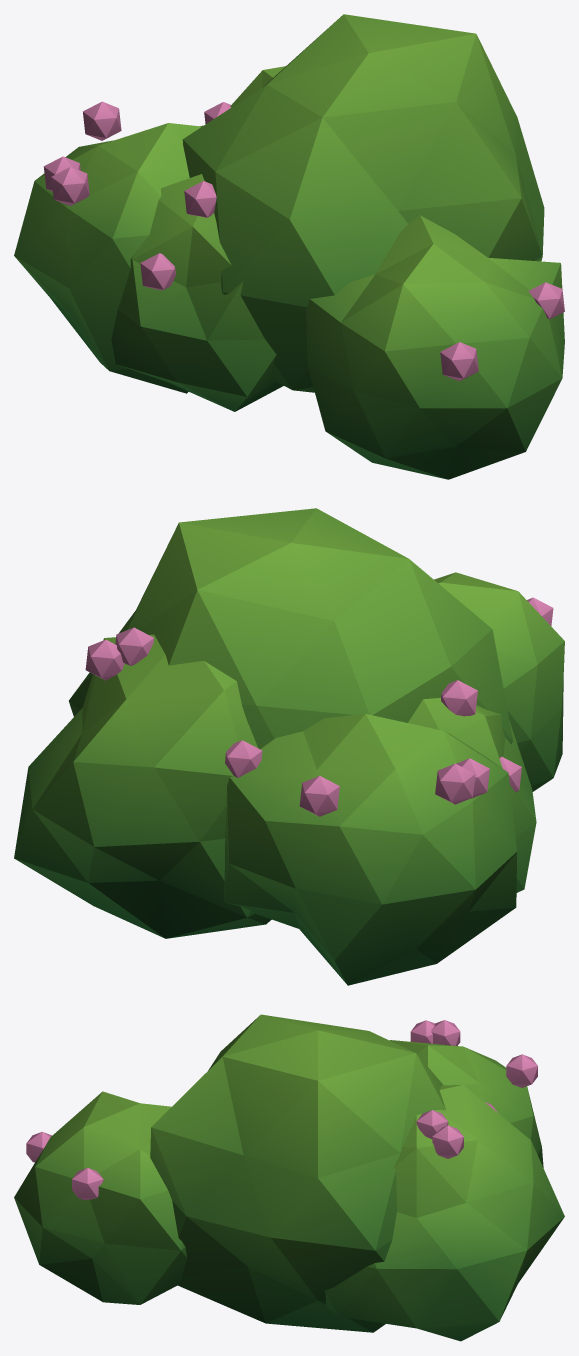
File: f_bush5.glb
The picture shows the model from 3 angles, top to bottom: view 1: azimuth 30°, elevation 25°; view 2: azimuth 150°, elevation 25°; view 3: azimuth 270°, elevation 25°; orthographic projection. The views are drawn at different scales.
Visible parts, largest first — view 1: bush5; view 2: bush5; view 3: bush5.
Part boxes in pixels (bbox=[...]): bush5: bbox=[14, 14, 564, 479]; bush5: bbox=[14, 508, 564, 985]; bush5: bbox=[14, 1014, 564, 1341].
Size of the model in its own units: 1.17 by 0.8414 by 1.47.
